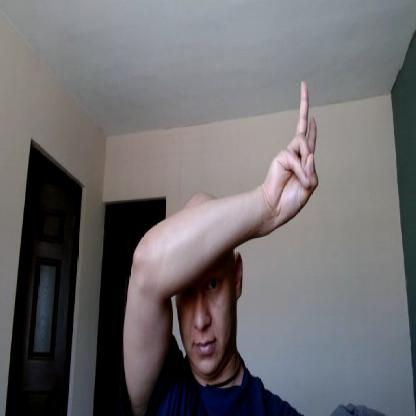V: (265, 77, 320, 234)
